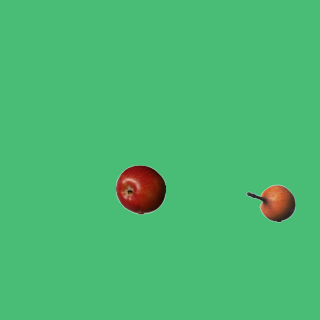Apple Braeburn: (115, 164, 165, 214)
Granadilla: (245, 178, 295, 228)
